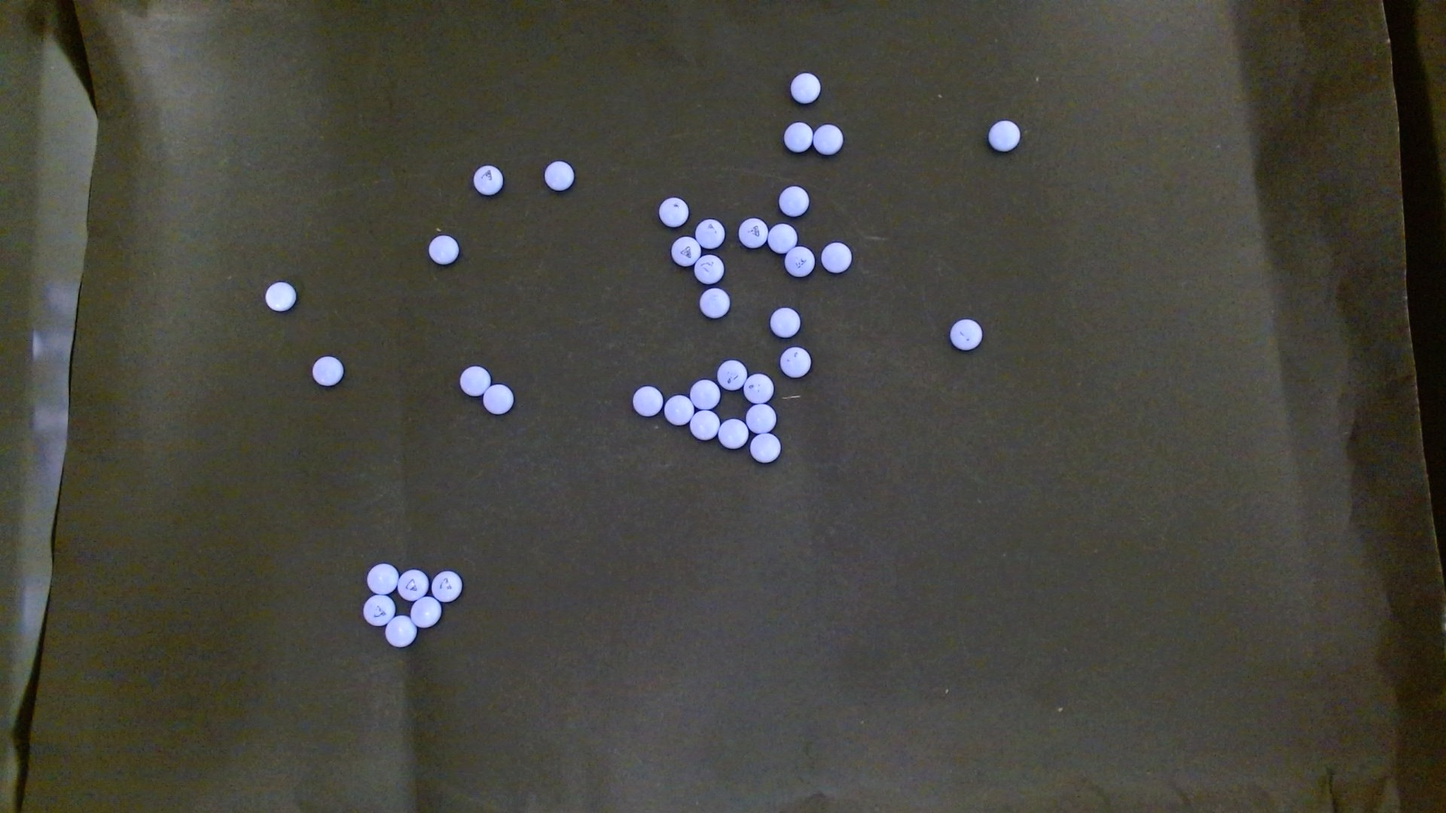Circle: (362, 593, 395, 626), (366, 562, 399, 595), (397, 568, 429, 601), (949, 318, 982, 350), (987, 119, 1020, 151), (717, 359, 748, 392), (410, 595, 441, 628), (790, 71, 821, 104), (431, 569, 462, 601), (459, 365, 490, 397), (779, 346, 810, 377), (821, 242, 852, 273), (718, 418, 749, 449), (385, 616, 416, 647), (749, 432, 780, 463), (482, 383, 513, 414), (778, 185, 808, 217), (737, 217, 767, 248), (658, 196, 688, 227), (770, 307, 800, 338), (746, 403, 776, 434), (265, 281, 296, 311), (312, 355, 343, 385), (633, 385, 663, 416), (694, 254, 724, 284), (700, 288, 730, 318), (428, 234, 458, 264), (785, 245, 814, 276), (664, 394, 693, 425), (813, 123, 842, 154), (691, 410, 720, 441), (783, 121, 812, 152), (671, 236, 700, 266), (473, 164, 502, 194), (743, 373, 772, 403), (767, 222, 796, 252), (695, 218, 724, 248), (544, 160, 573, 190), (691, 379, 719, 410)
